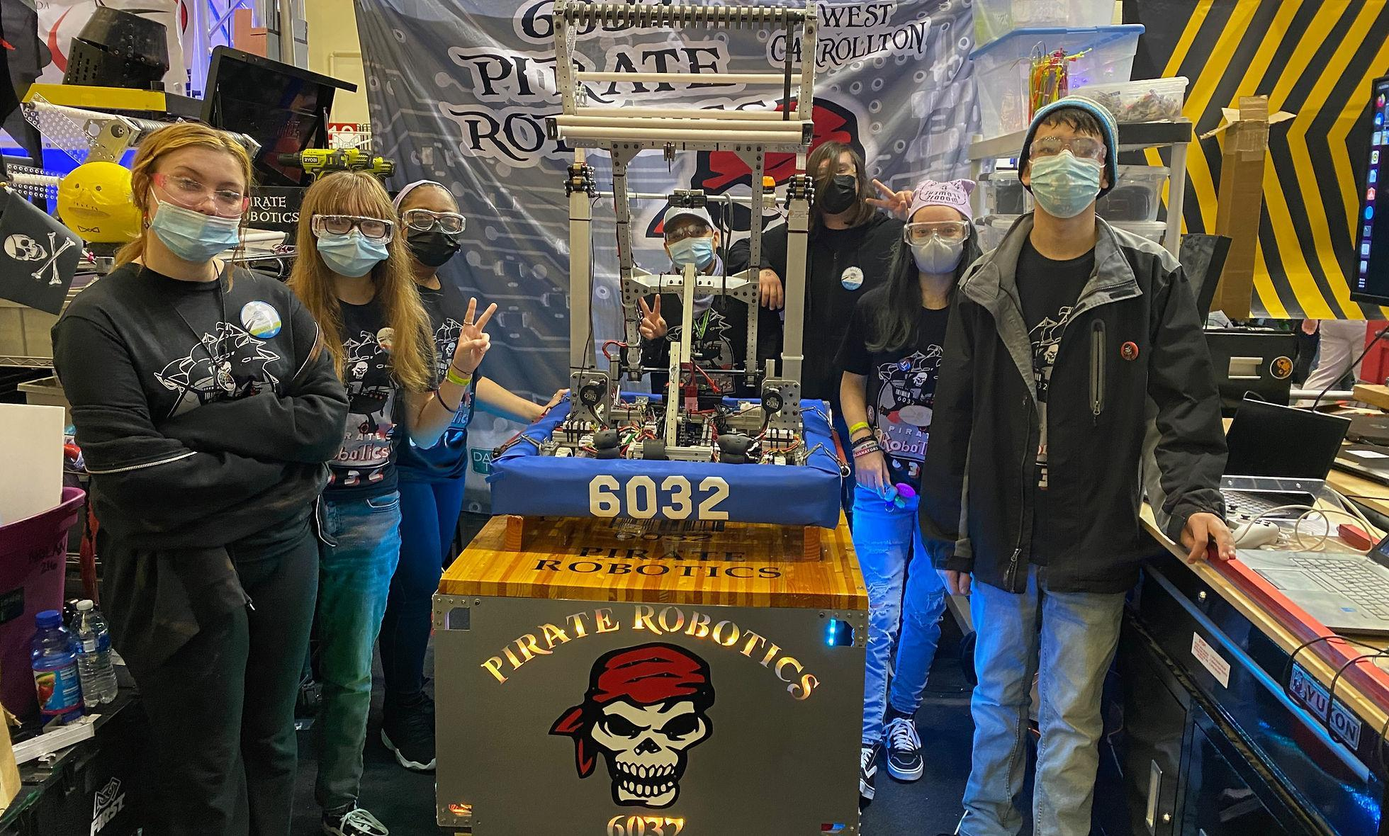robot: (483, 0, 860, 537)
